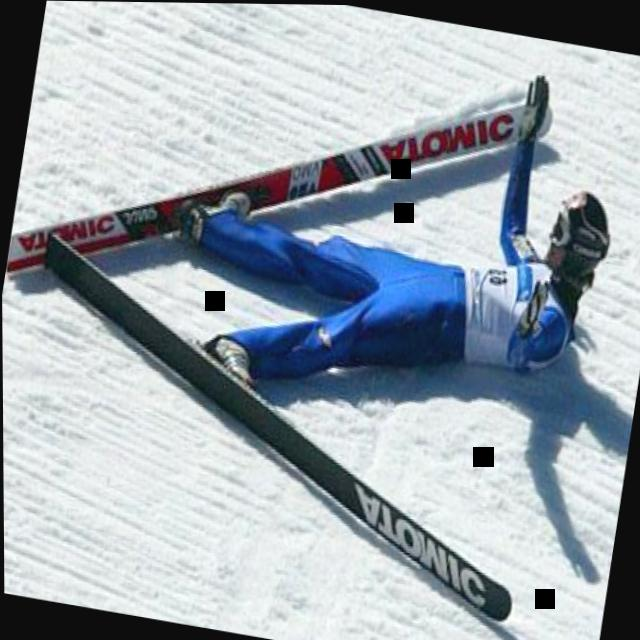Fall-Detected: (146, 12, 640, 482)
